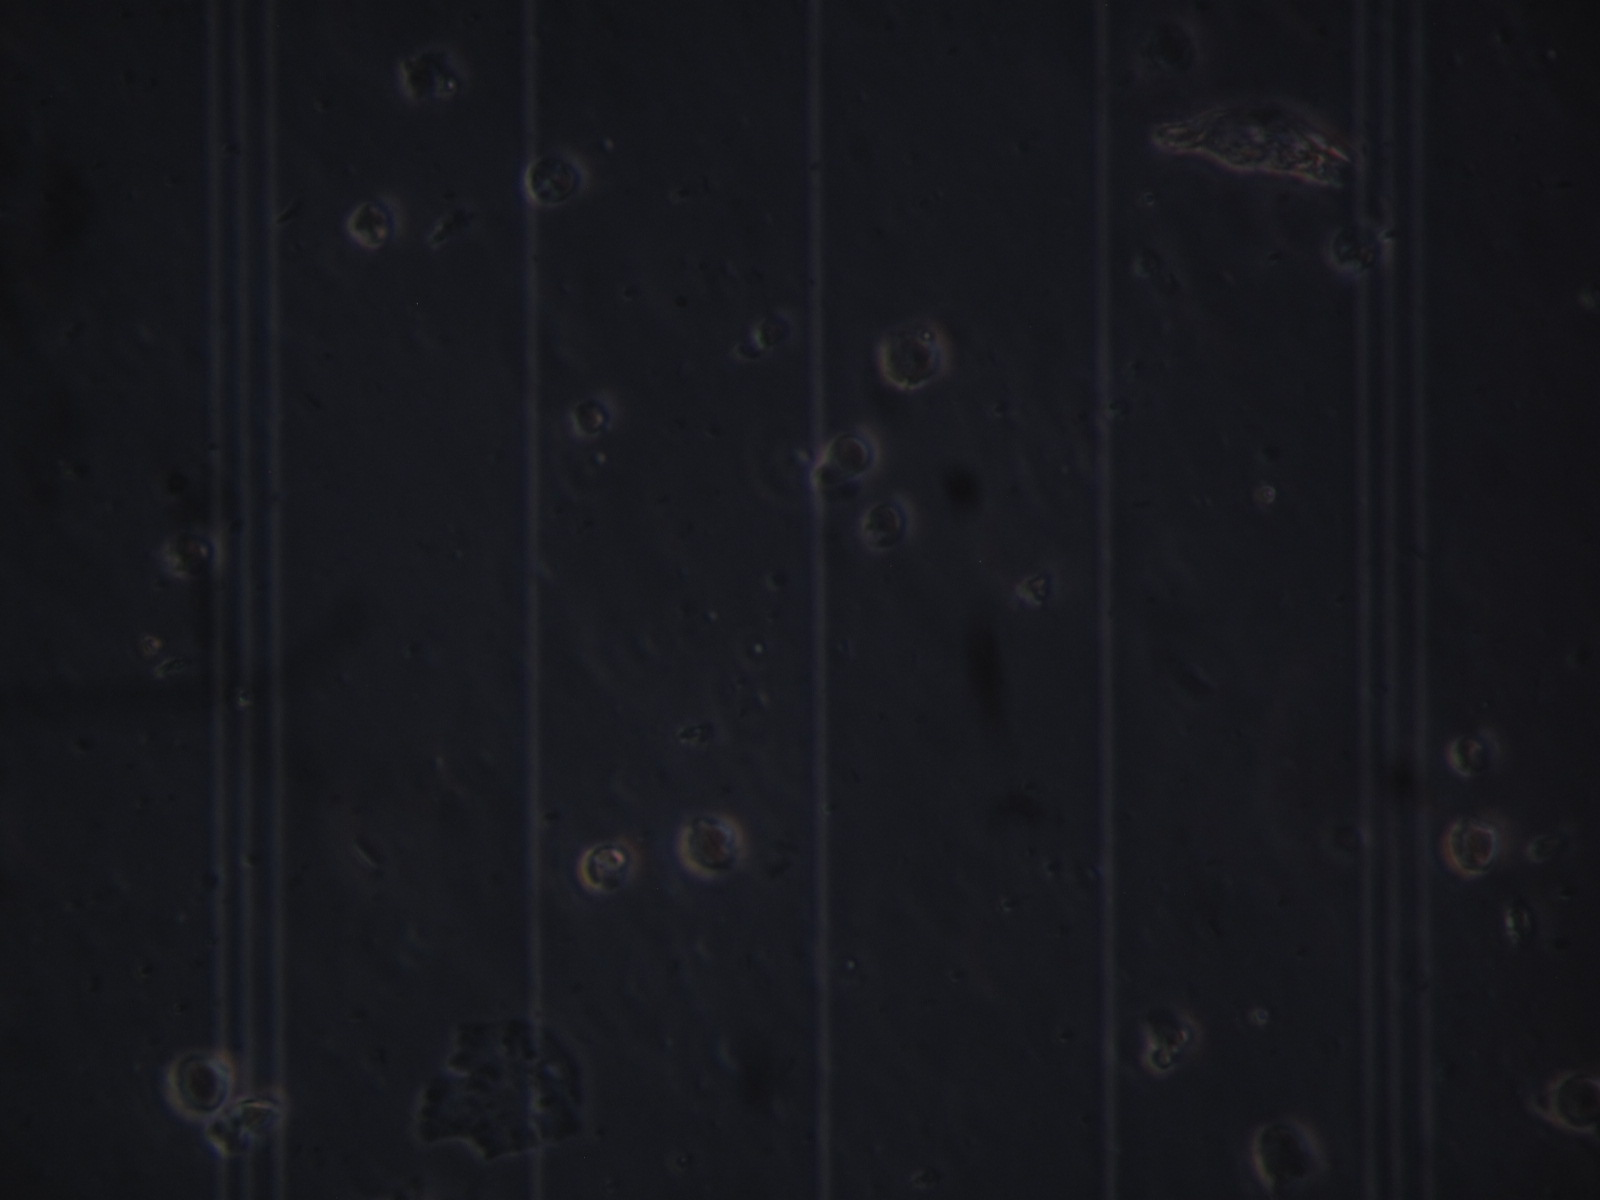hemo: (1247, 1111, 1329, 1197), (677, 805, 750, 884), (165, 1055, 236, 1124), (877, 324, 949, 389), (396, 45, 466, 105), (340, 190, 407, 251), (1327, 219, 1395, 277), (160, 524, 226, 584), (1443, 816, 1500, 882), (527, 147, 592, 205), (580, 837, 641, 897), (859, 492, 916, 556), (826, 420, 884, 482), (1550, 1064, 1600, 1131), (1448, 727, 1500, 784), (572, 397, 614, 437)
